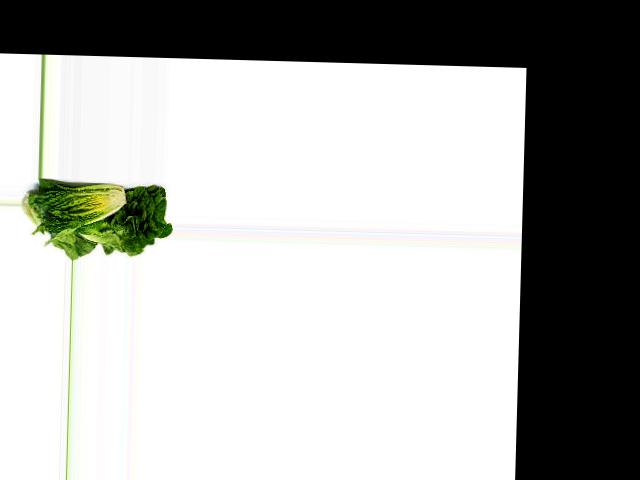lettuce: (81, 178, 170, 256)
